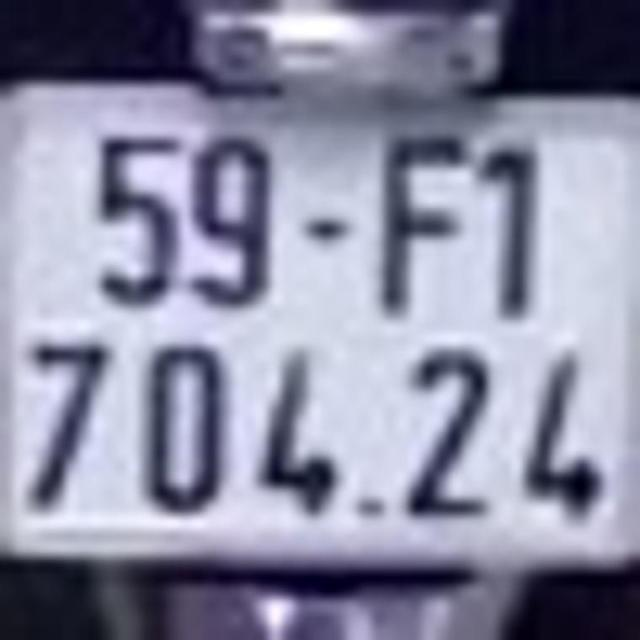0: (142, 340, 225, 516)
1: (480, 132, 541, 322)
2: (405, 342, 493, 521)
4: (521, 343, 608, 528), (258, 341, 340, 520)
5: (96, 131, 181, 308)
7: (21, 334, 115, 513)
9: (190, 133, 273, 310)
F: (380, 128, 470, 318)
